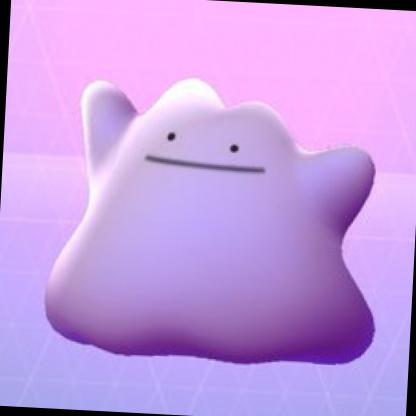Ditto: (1, 1, 416, 379)
